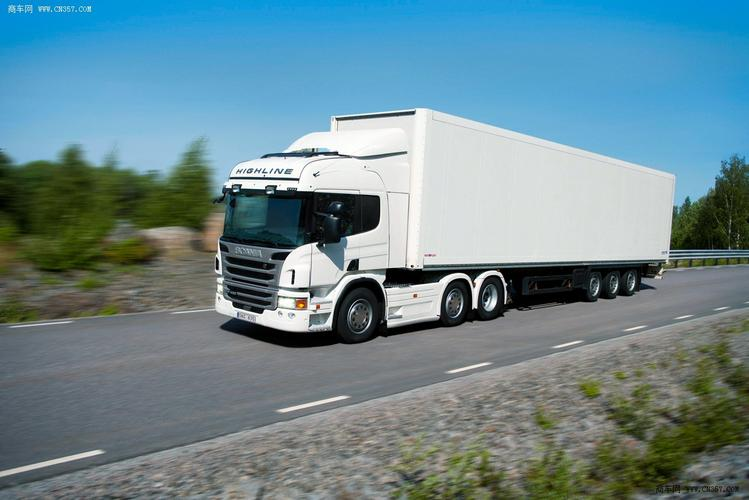卡车: (208, 106, 683, 348)
